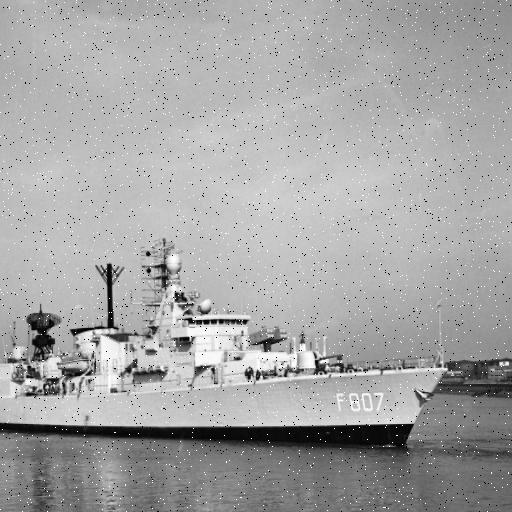Fragata: (1, 241, 458, 455)
